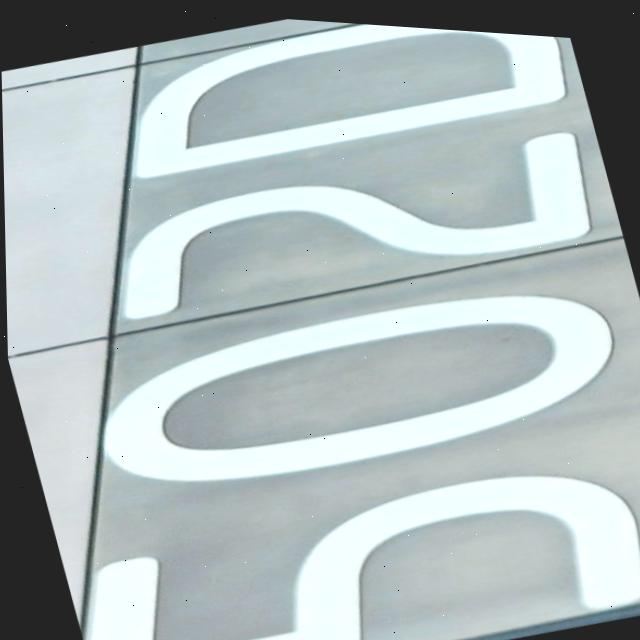character: (73, 231, 639, 542), (86, 90, 609, 358), (55, 407, 640, 640), (96, 6, 582, 215)
